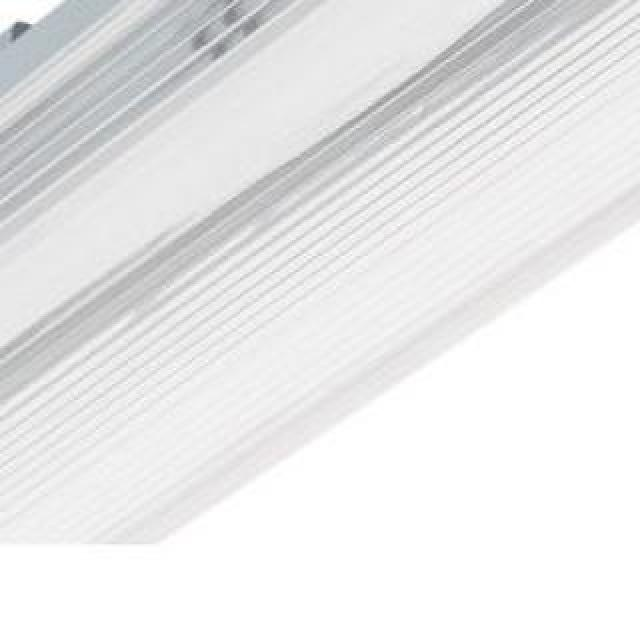fluorescent tube: (16, 0, 640, 516), (26, 0, 640, 436)
